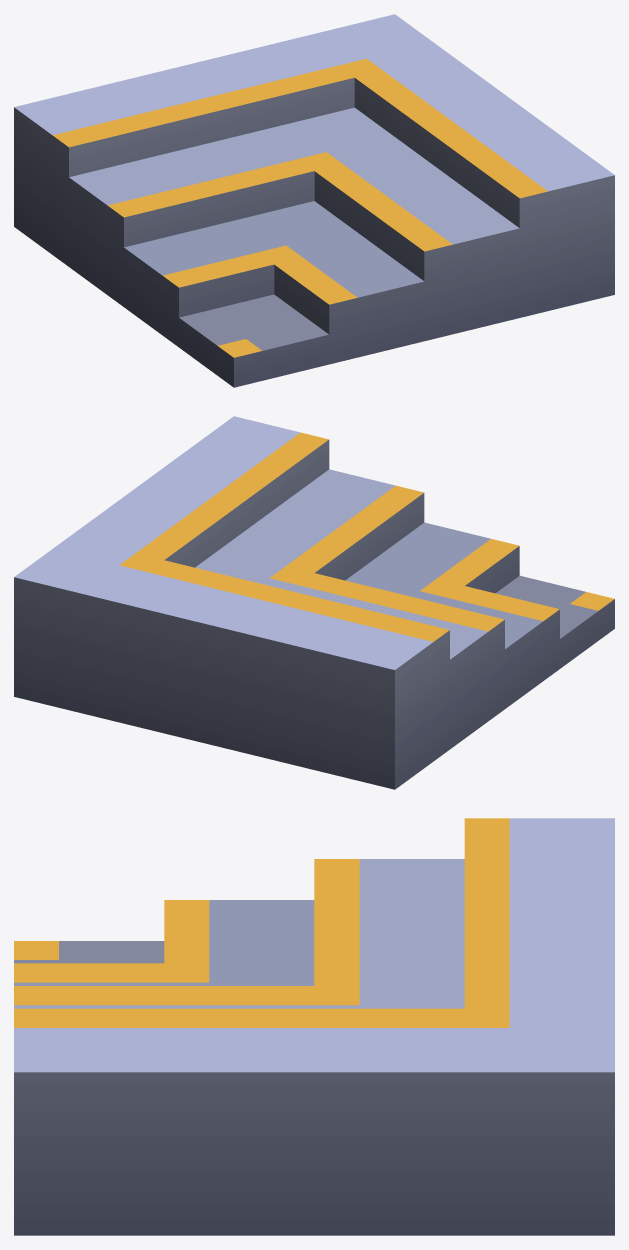
File: kenney-space-station-stairs-corner-inner.glb
The picture shows the model from 3 angles, top to bottom: view 1: azimuth 30°, elevation 25°; view 2: azimuth 150°, elevation 25°; view 3: azimuth 270°, elevation 25°; orthographic projection. The views are drawn at different scales.
Visible parts, largest first — view 1: stairs-corner-inner; view 2: stairs-corner-inner; view 3: stairs-corner-inner.
Boxes of the visible parts, x1,y1,x2,y2 form: stairs-corner-inner: [14, 14, 614, 387]; stairs-corner-inner: [14, 416, 614, 789]; stairs-corner-inner: [14, 818, 614, 1235].
Size of the model in its own units: 1 by 0.3 by 1.
1 material, 1 textured.
